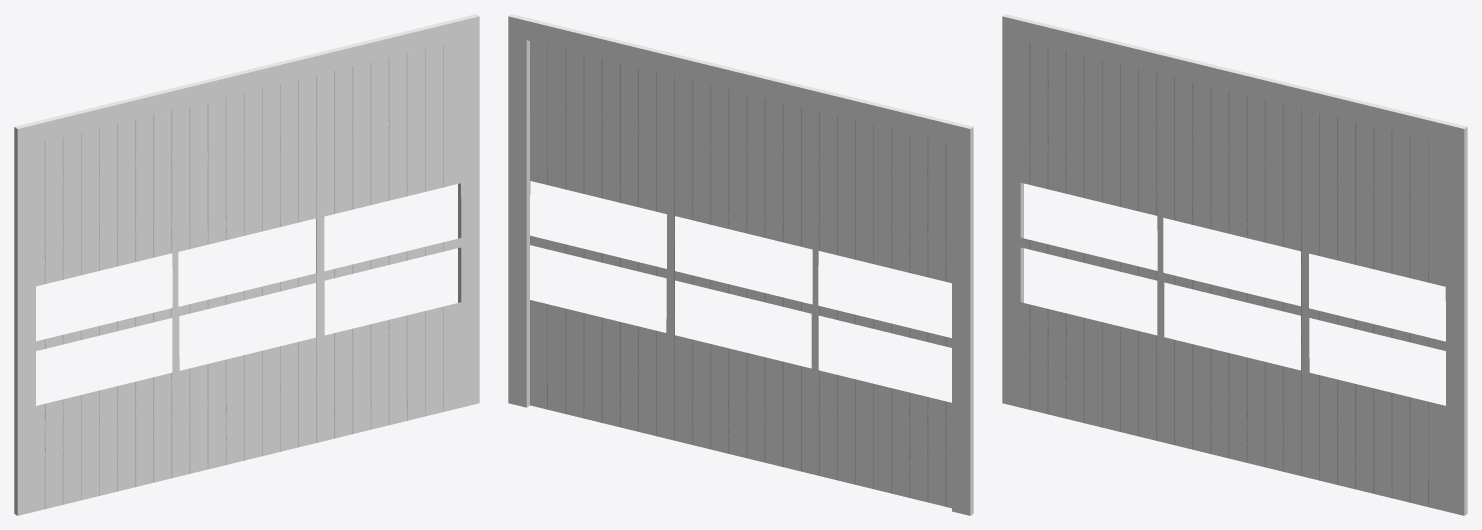
File: gate_half_glassold.gltf
3 renders of one model, left to right at view 1: azimuth 30°, elevation 25°; view 2: azimuth 150°, elevation 25°; view 3: azimuth 330°, elevation 25°, orthographic.
Parts seen in each view (by area): view 1: 3DGeom-1, 3DGeom-2; view 2: 3DGeom-1, 3DGeom-2; view 3: 3DGeom-1, 3DGeom-2.
Part boxes in pixels (x1,y1,x2,y2): 3DGeom-1: (36,40,461,511); 3DGeom-2: (14,14,479,515); 3DGeom-1: (530,41,951,508); 3DGeom-2: (508,14,973,515); 3DGeom-1: (1020,40,1445,511); 3DGeom-2: (1002,14,1467,515).
Bounding box in the file's own units: 2.5 × 2 × 0.0306.
Materials: 2 (1 with a texture image).
